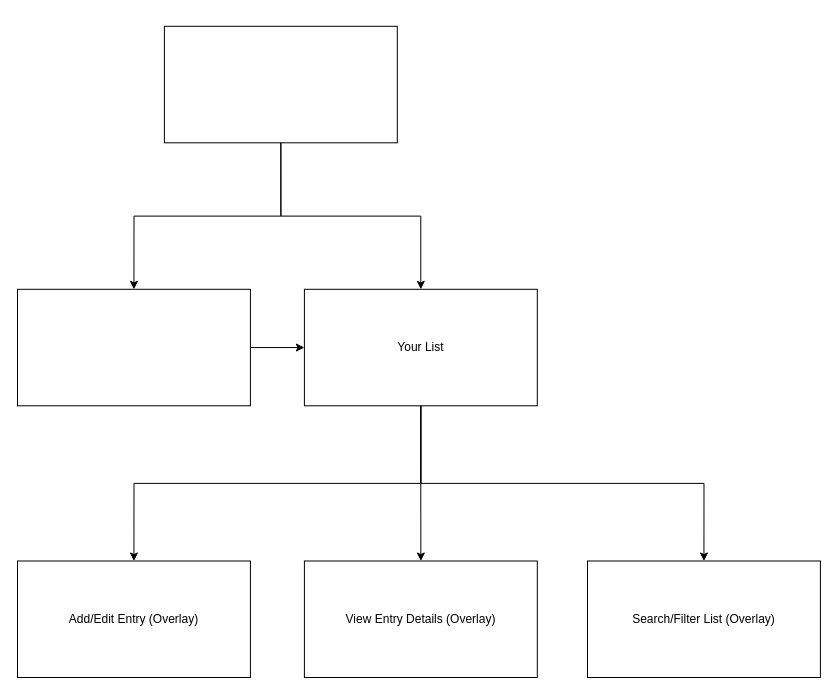
This 838x695 diagram has some shape labels left out. The shapes that lost their labels are listed below. From the top down, each one's centre as x and y in pixels, then its label:
pixel 280 84: Login
pixel 133 347: Sign Up (Overlay)
